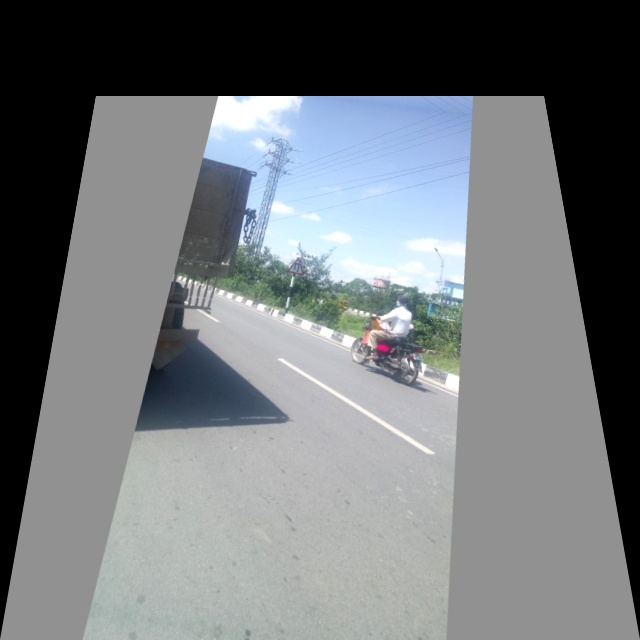U_Turn_Ahead: (282, 251, 311, 280)
